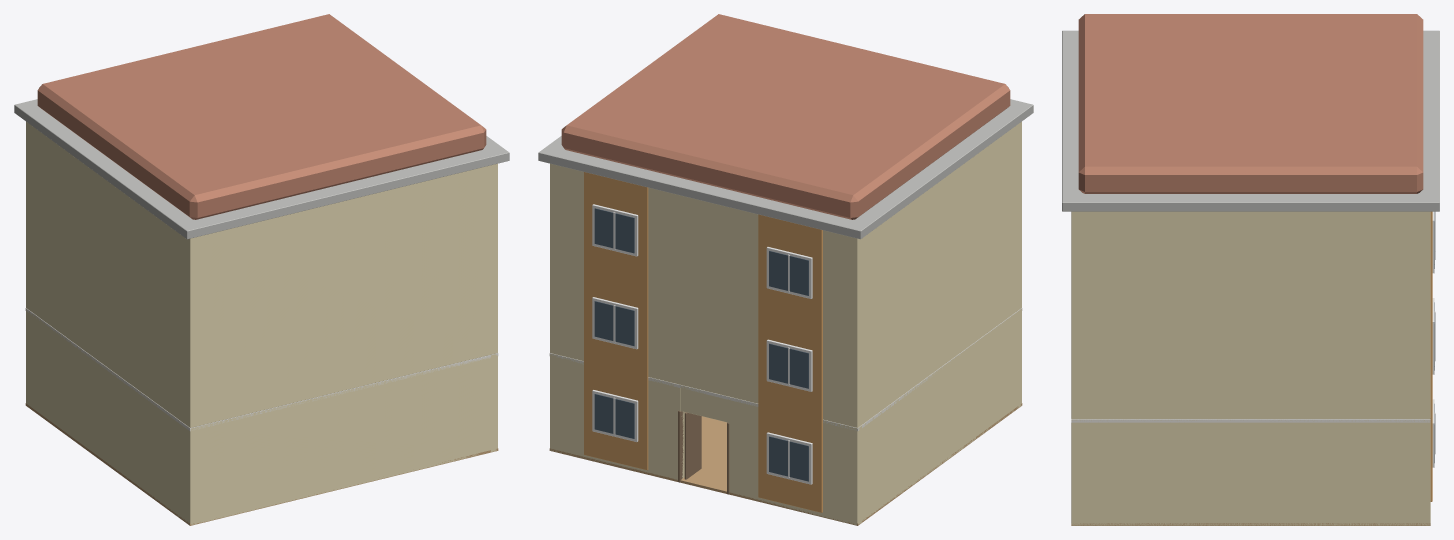
The model's file is Sultanbeyli_YellowApartman.fbx.
The picture shows the model from 3 angles, left to right: view 1: azimuth 30°, elevation 25°; view 2: azimuth 150°, elevation 25°; view 3: azimuth 270°, elevation 25°; orthographic projection. The views are drawn at different scales.
Parts seen in each view (by area): view 1: Sultanbeyli_YellowApartman; view 2: Sultanbeyli_YellowApartman; view 3: Sultanbeyli_YellowApartman.
Boxes of the visible parts, x1,y1,x2,y2 form: Sultanbeyli_YellowApartman: [14, 14, 509, 525]; Sultanbeyli_YellowApartman: [538, 14, 1033, 525]; Sultanbeyli_YellowApartman: [1062, 14, 1439, 525].
Bounding box in the file's own units: 11.1 × 10.64 × 10.3.
